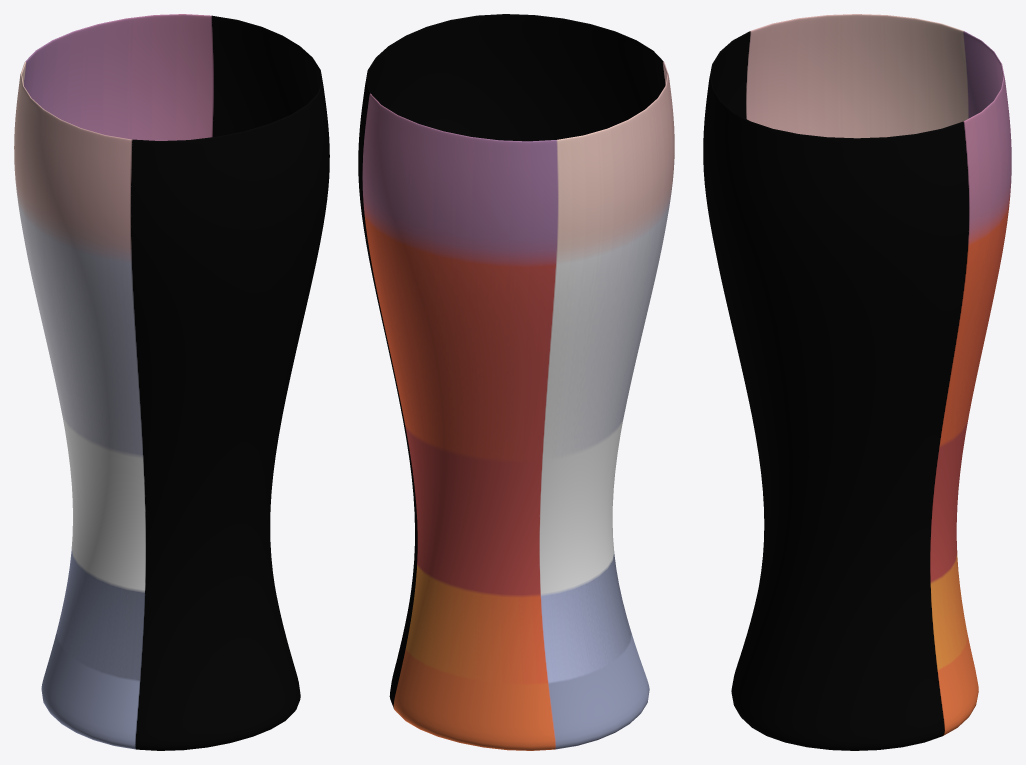
The model's file is GuinnezGlass.fbx.
3 views of the same model, side by side, from view 1: azimuth 30°, elevation 25°; view 2: azimuth 150°, elevation 25°; view 3: azimuth 270°, elevation 25° (orthographic).
Parts seen in each view (by area): view 1: GuinnezGlass; view 2: GuinnezGlass; view 3: GuinnezGlass.
Boxes of the visible parts, <box> form: GuinnezGlass: <box>14,14,329,750</box>; GuinnezGlass: <box>358,14,674,750</box>; GuinnezGlass: <box>703,14,1011,750</box>.
Bounding box in the file's own units: 8.75 × 19.46 × 8.69.
1 material, 1 textured.
